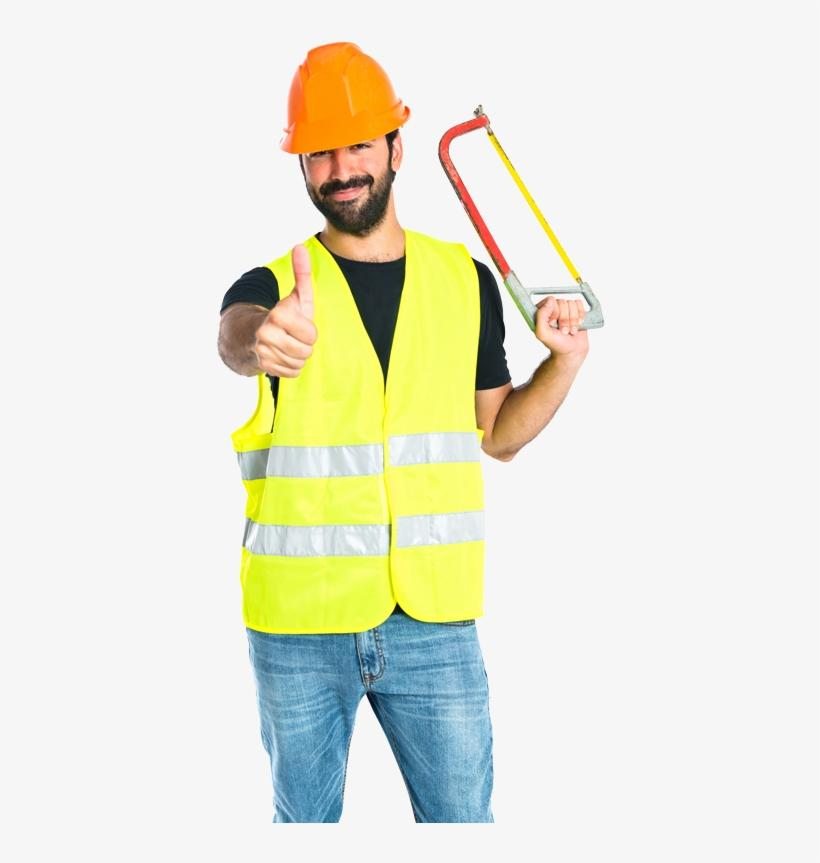hat: (204, 194, 614, 734), (259, 9, 446, 246)
